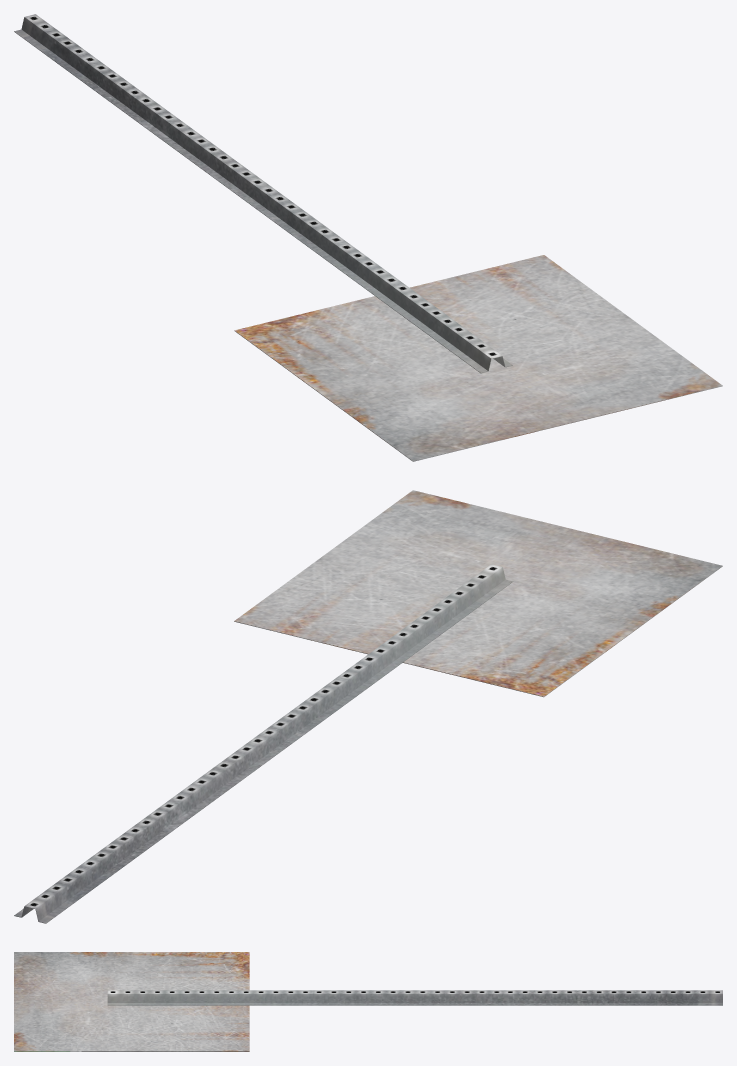
Rendered from cast_sign.dae.
3 views of the same model, one above another, from view 1: azimuth 30°, elevation 25°; view 2: azimuth 150°, elevation 25°; view 3: azimuth 270°, elevation 25° (orthographic). The views are drawn at different scales.
Visible parts, largest first — view 1: Rectangle001, Box005; view 2: Rectangle001, Box005; view 3: Rectangle001, Box005.
Boxes of the visible parts, bbox=[...] form: Rectangle001: bbox=[234, 255, 722, 461]; Box005: bbox=[14, 14, 512, 373]; Rectangle001: bbox=[234, 490, 722, 697]; Box005: bbox=[14, 564, 513, 923]; Rectangle001: bbox=[14, 952, 249, 1051]; Box005: bbox=[107, 990, 722, 1005].
Bounding box in the file's own units: 600 × 27.54 × 1804.
1 material, 1 textured.
